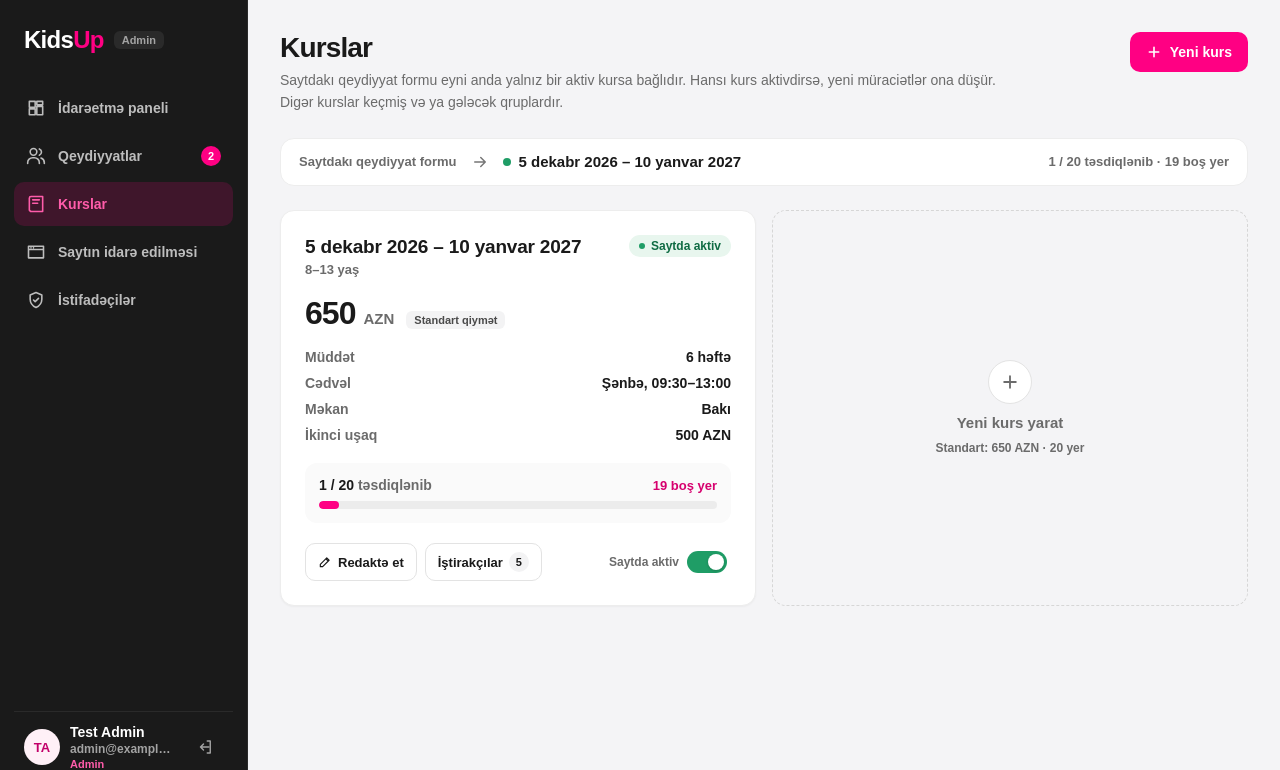
Test case: a new course › names itself from the dates and offers an end six weeks later
The width and height of the screenshot is (1280, 770).
Expected: the navigation bar named "Admin menyu" is shown, [14,86,233,322]
Expected: the heading "Kurslar" is shown, [280,32,372,63]
Click the button "Yeni kurs" at (1189, 52), box [1130,32,1248,72]
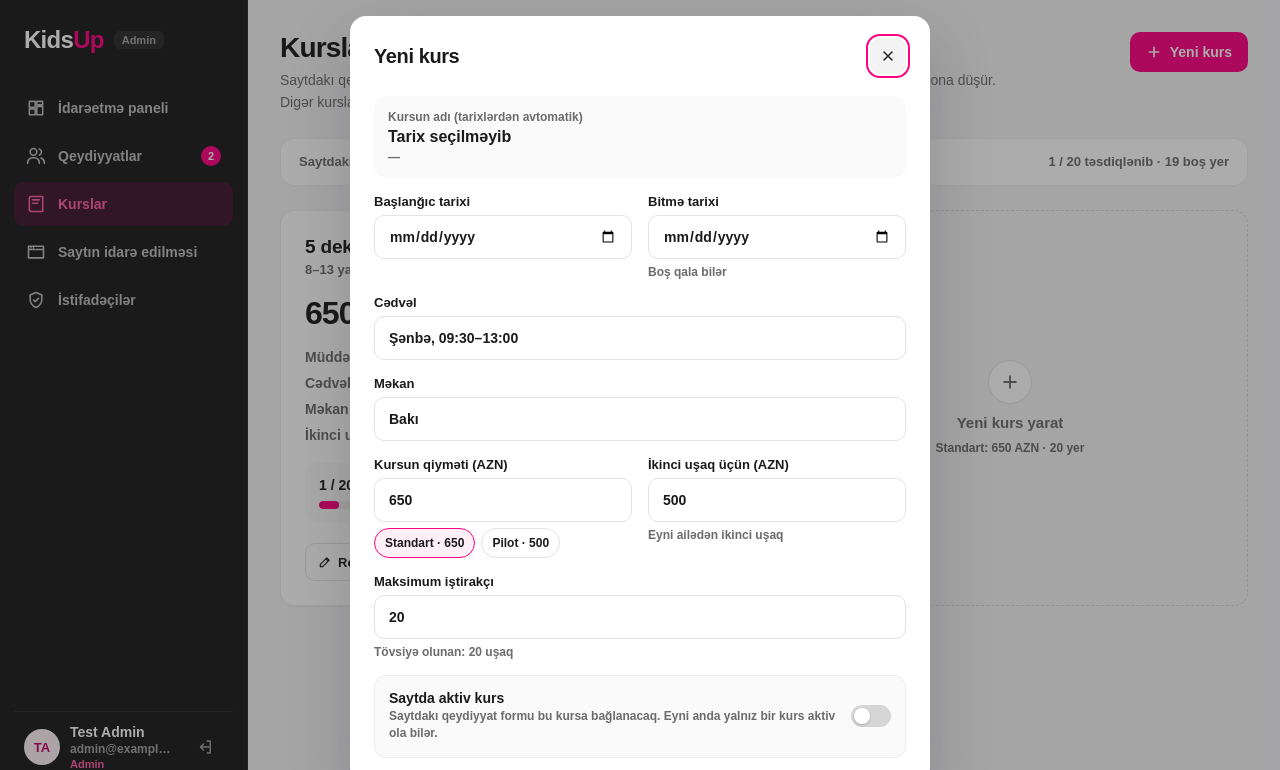
Type "2027-03-06" into the date field labelled "Başlanğıc tarixi" at (503, 237), box [374,215,632,259]
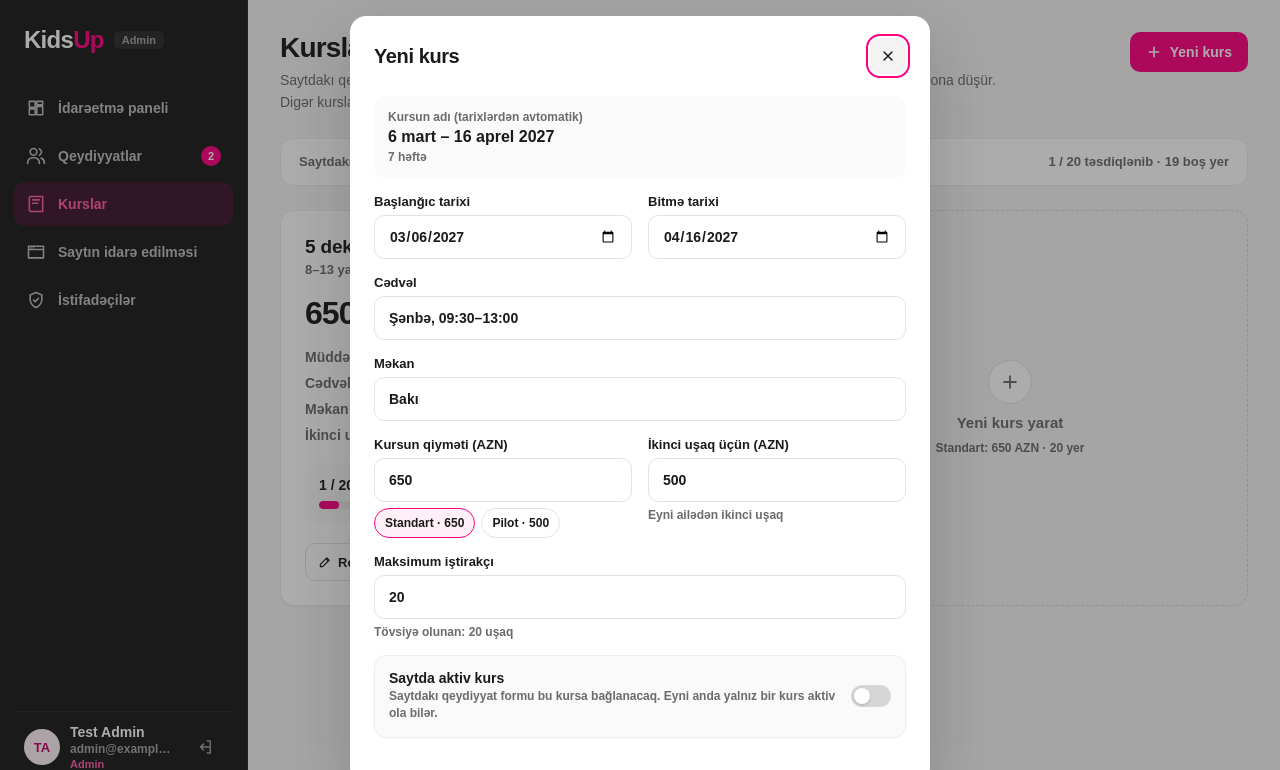
Expected: the date field labelled "Bitmə tarixi" holds "2027-04-16", [648,215,906,259]
Expected: the text "6 mart – 16 aprel 2027" is shown, [388,128,554,145]
Expected: the text "7 həftə" is shown, [388,150,427,164]
